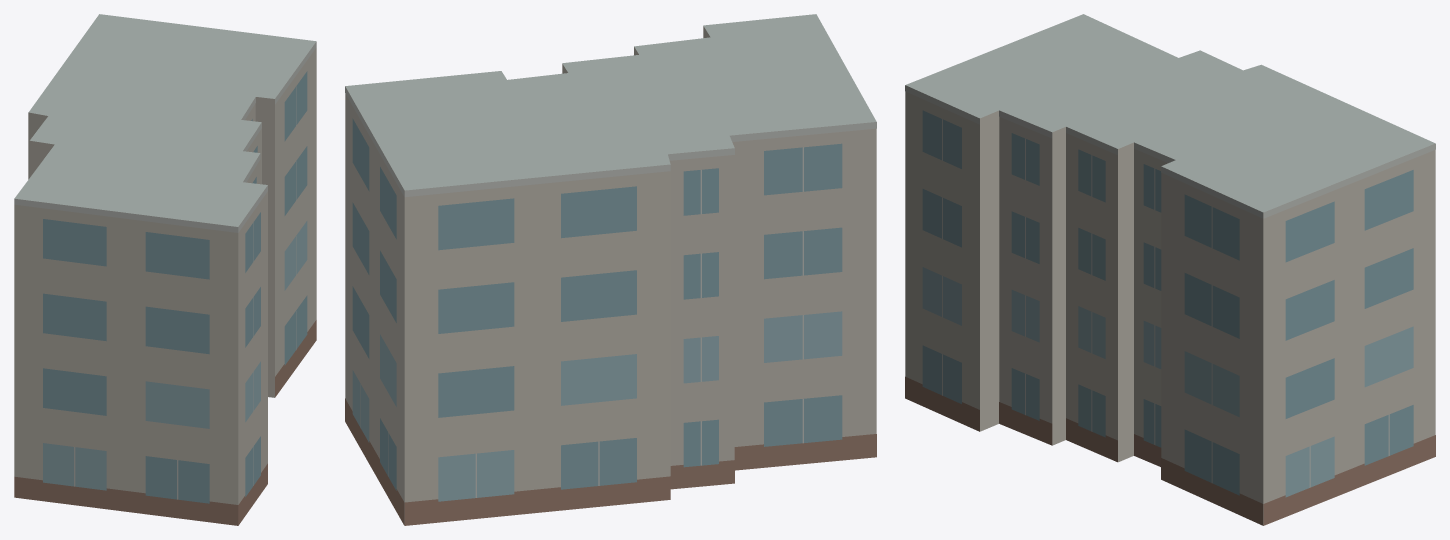
Rendered from survey-upis-32557591.glb.
The picture shows the model from 3 angles, left to right: view 1: azimuth 30°, elevation 25°; view 2: azimuth 150°, elevation 25°; view 3: azimuth 270°, elevation 25°; orthographic projection. The views are drawn at different scales.
Visible parts, largest first — view 1: survey-upis-32557591.tmp; view 2: survey-upis-32557591.tmp; view 3: survey-upis-32557591.tmp.
Boxes of the visible parts, bbox=[...] form: survey-upis-32557591.tmp: bbox=[14, 14, 316, 525]; survey-upis-32557591.tmp: bbox=[345, 14, 876, 525]; survey-upis-32557591.tmp: bbox=[905, 14, 1435, 525].
Bounding box in the file's own units: 16.59 × 12.2 × 18.73.
